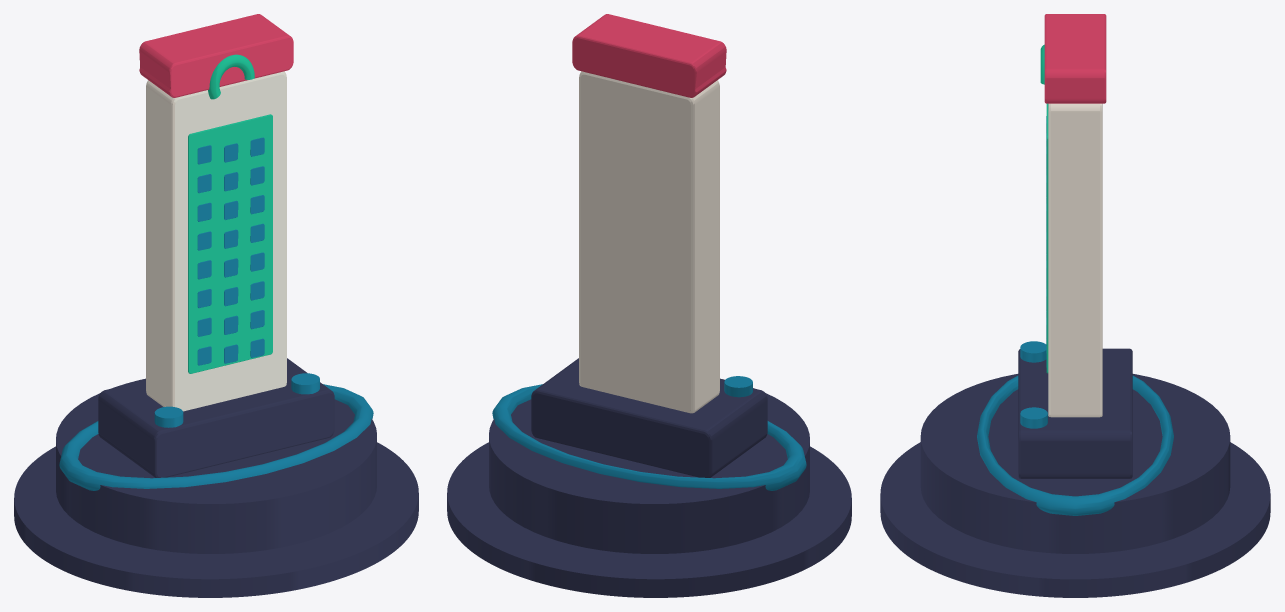
Rendered from 0596_考古图鉴_探铲.glb.
The picture shows the model from 3 angles, left to right: view 1: azimuth 30°, elevation 25°; view 2: azimuth 150°, elevation 25°; view 3: azimuth 270°, elevation 25°; orthographic projection.
Visible parts, largest first — view 1: card_0596; view 2: card_0596; view 3: card_0596.
Boxes of the visible parts, left/top/right/bottom form: card_0596: left=14, top=14, right=418, bottom=597; card_0596: left=447, top=14, right=851, bottom=597; card_0596: left=880, top=14, right=1270, bottom=597.
Size of the model in its own units: 0.7779 by 1 by 0.7504.
